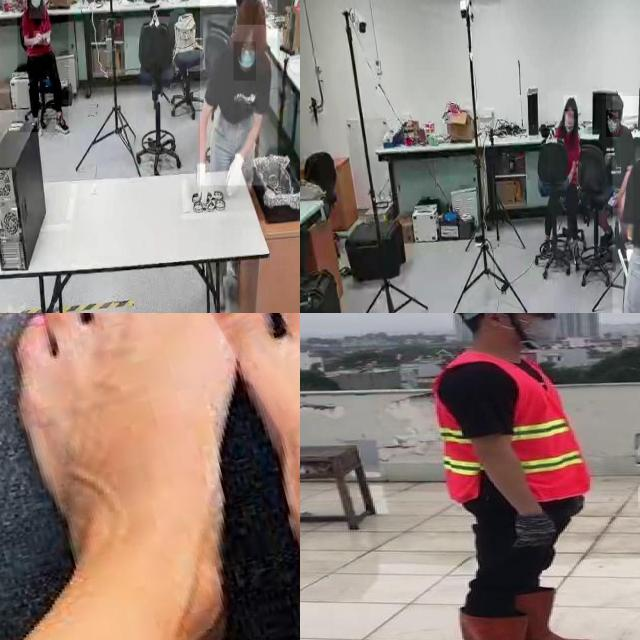Barefoots: (0, 313, 300, 640), (201, 313, 300, 637)
boots: (517, 589, 601, 640), (456, 611, 575, 640)
face_mask: (234, 41, 256, 80), (606, 110, 620, 137), (29, 0, 46, 18)
face_nomask: (564, 111, 574, 127)
hand_noglove: (612, 190, 622, 209), (38, 34, 50, 46), (34, 31, 40, 44)
head_nohelmet: (236, 0, 265, 25), (606, 92, 623, 110), (564, 95, 578, 110)
person: (418, 313, 615, 640), (200, 0, 278, 186), (17, 0, 68, 133), (612, 96, 640, 313), (548, 92, 580, 264), (602, 92, 633, 228)
shoes: (51, 105, 71, 135)
vest: (432, 351, 590, 501)
